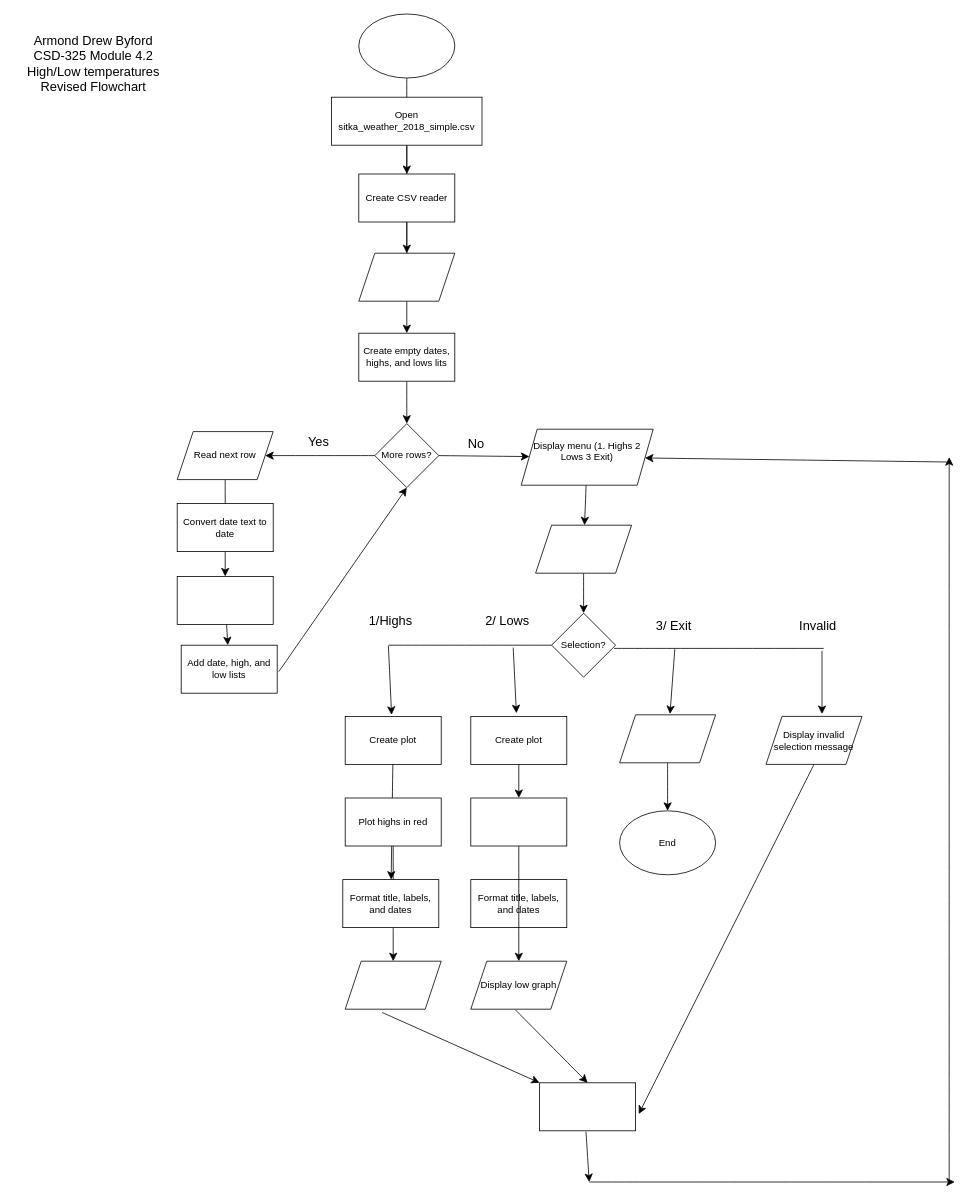
Image size: 968x1200. Some labels were removed from this diagram. The shapes that lost their labels are listed below. From the top down, each one's box as (x1, y1, x2, y2) in pixels, then its label:
(358, 13, 455, 78): Start
(358, 252, 455, 301): Read header row
(535, 524, 632, 573): Get user selection
(176, 576, 273, 624): Get high and low temperatures
(619, 714, 716, 763): Display goodbye message
(470, 797, 567, 846): Plot lows in blue
(344, 960, 441, 1009): Display high graph
(539, 1082, 636, 1131): Return to menu
